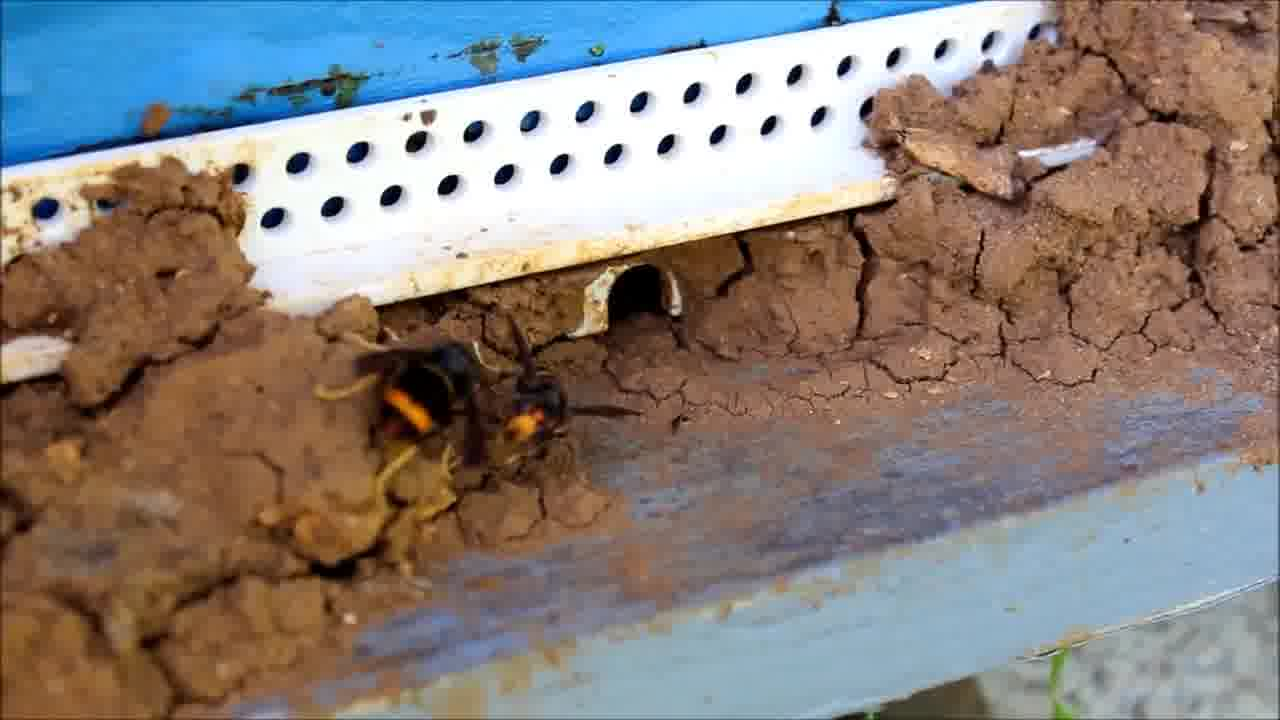hornet: (347, 321, 503, 463), (502, 339, 637, 481)
